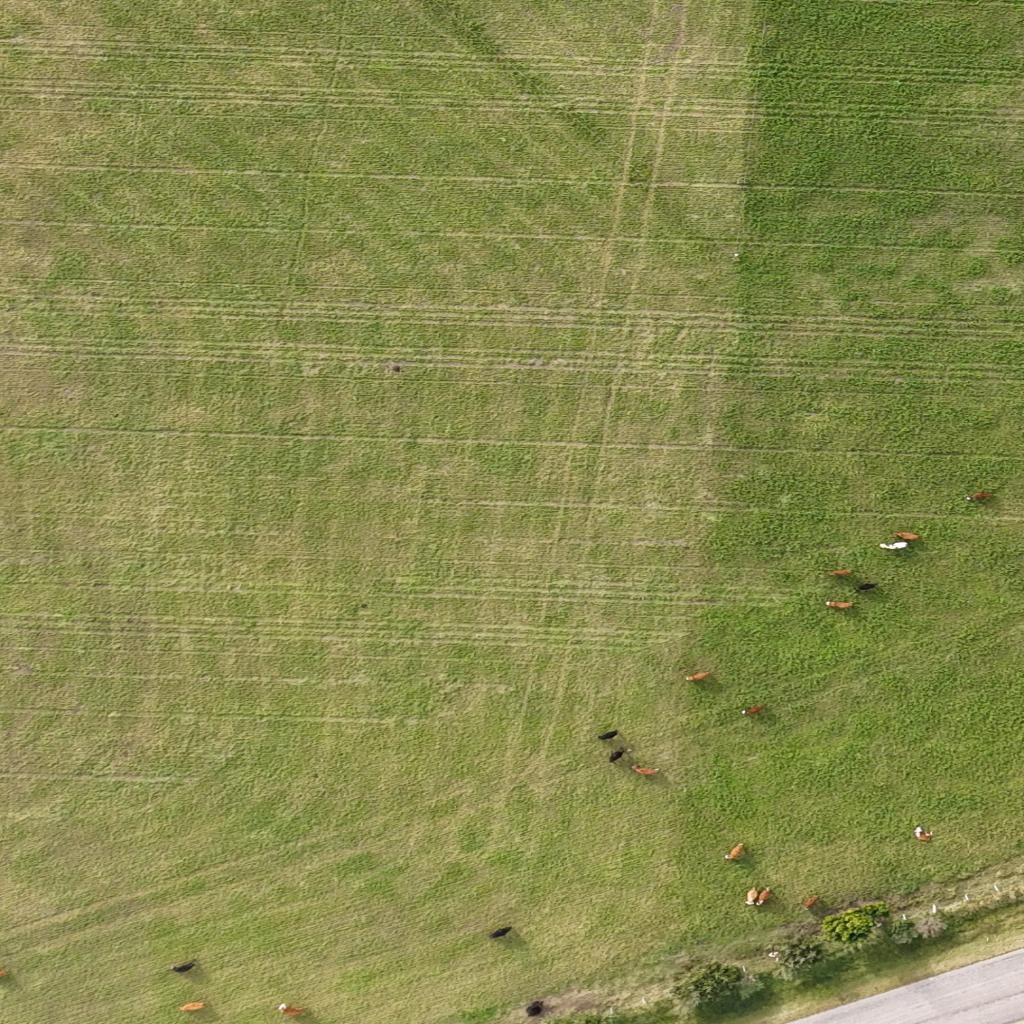cow: (276, 1000, 308, 1014), (744, 888, 768, 906), (175, 1000, 208, 1013), (168, 960, 196, 974), (904, 827, 927, 843), (724, 844, 745, 861), (607, 748, 629, 764), (876, 541, 910, 551), (488, 925, 512, 939), (632, 765, 660, 776), (525, 1000, 543, 1016), (685, 671, 711, 682), (966, 492, 994, 502), (828, 569, 854, 578), (826, 601, 854, 609), (802, 896, 818, 910), (892, 532, 920, 540), (855, 584, 877, 594), (743, 706, 765, 716), (597, 731, 618, 741), (0, 970, 11, 980)
